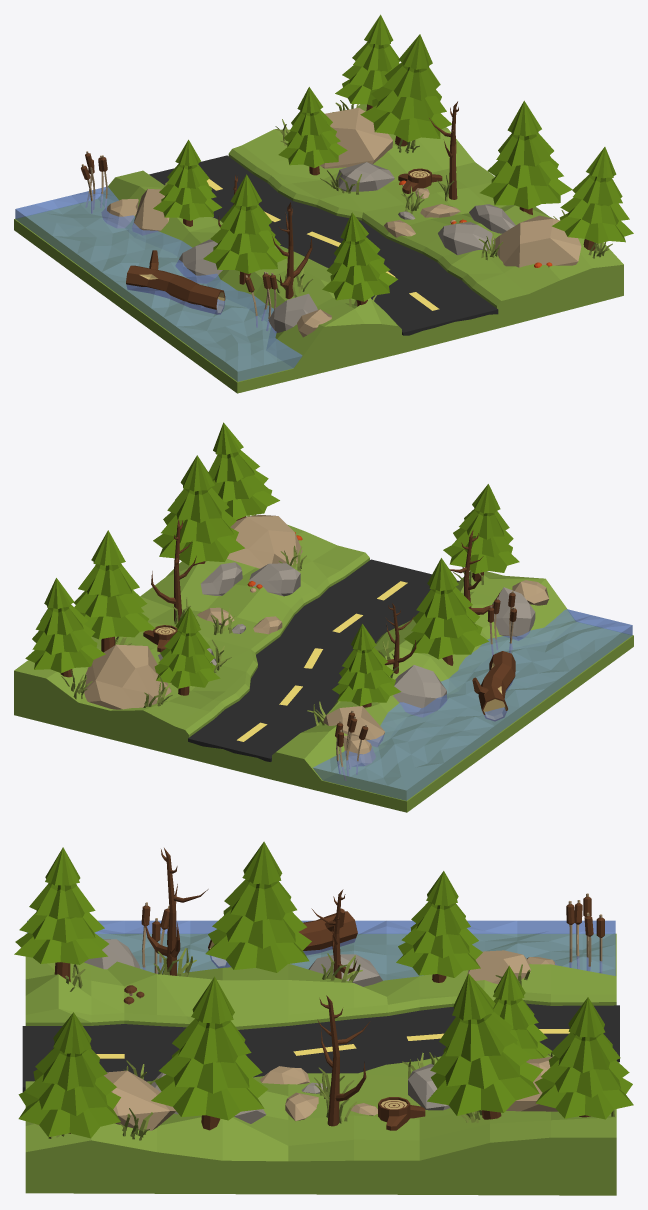
The model's file is Forest_Road_Scene1.fbx.
3 views of the same model, one above another, from view 1: azimuth 30°, elevation 25°; view 2: azimuth 150°, elevation 25°; view 3: azimuth 270°, elevation 25° (orthographic). The views are drawn at different scales.
Parts seen in each view (by area): view 1: Forest_Road_Scene1; view 2: Forest_Road_Scene1; view 3: Forest_Road_Scene1.
Boxes of the visible parts, box(x1,y1,x2,y2) form: Forest_Road_Scene1: box(14, 14, 633, 393); Forest_Road_Scene1: box(14, 422, 633, 812); Forest_Road_Scene1: box(14, 841, 633, 1195).
Bounding box in the file's own units: 20.17 × 20.2 × 7.45.
